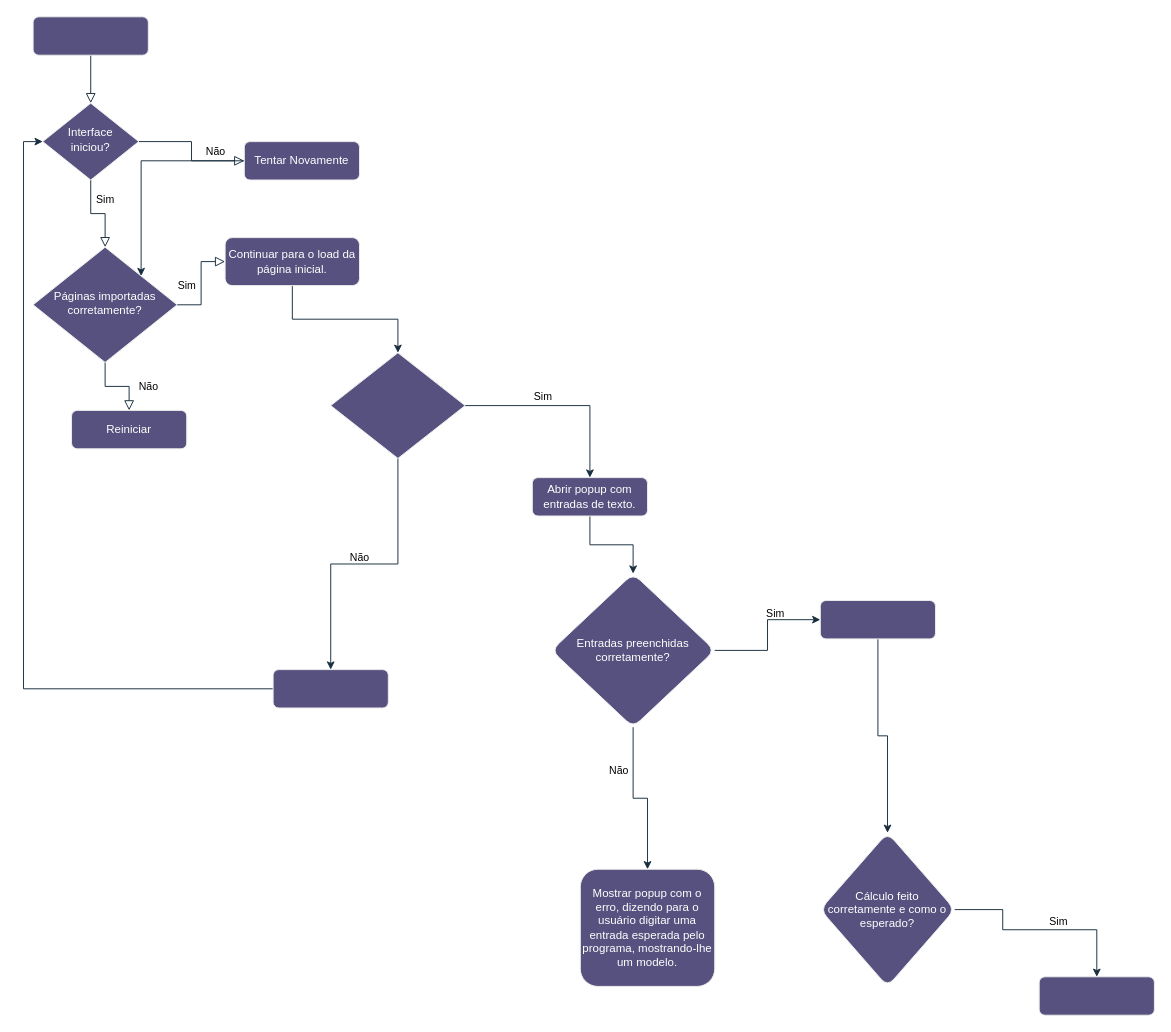
Image size: 1171x1032. Some labels were removed from this diagram. The centre of each missing label's shape, as x and y in pixels:
"Abrir Popup com o resultado" goes at point (1096, 995).
"Calcular" goes at point (877, 619).
"Clique dos botões funcionando?" goes at point (397, 405).
"Início" goes at point (90, 35).
"Reiniciar o app" goes at point (330, 688).
